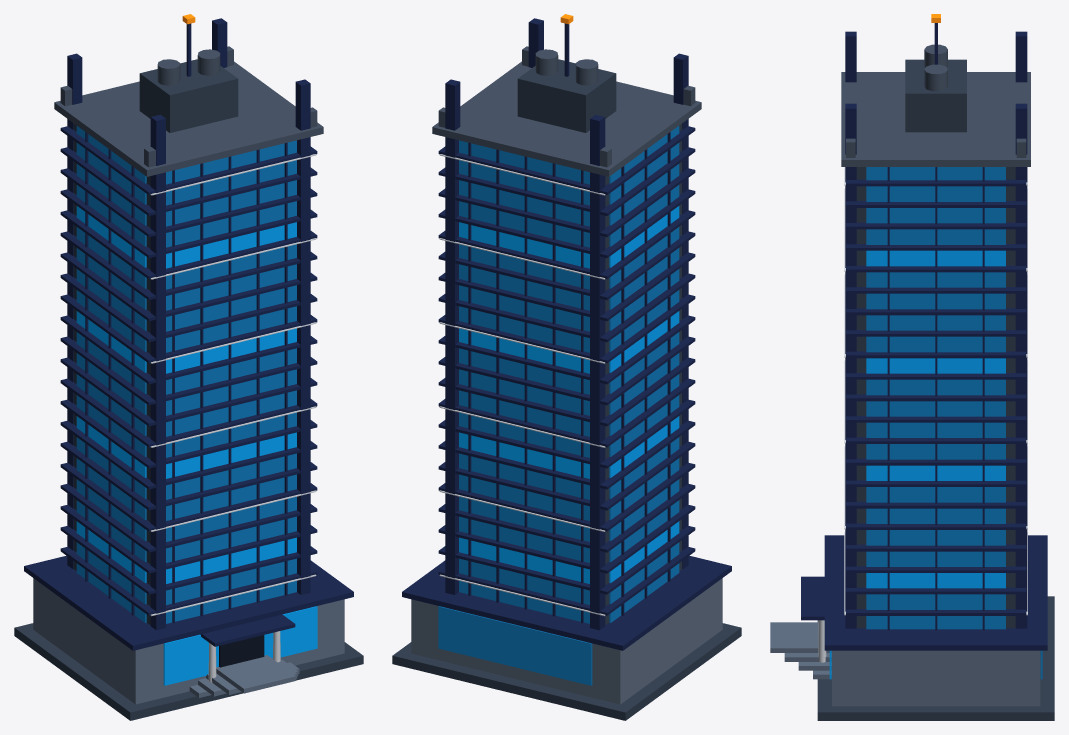
Rendered from skyscraper.glb.
The picture shows the model from 3 angles, left to right: view 1: azimuth 30°, elevation 25°; view 2: azimuth 150°, elevation 25°; view 3: azimuth 270°, elevation 25°; orthographic projection. The views are drawn at different scales.
Visible parts, largest first — view 1: Detailed_glass_office_tower; view 2: Detailed_glass_office_tower; view 3: Detailed_glass_office_tower.
Boxes of the visible parts, box(x1,y1,x2,y2) form: Detailed_glass_office_tower: box(14, 14, 363, 720); Detailed_glass_office_tower: box(392, 14, 741, 720); Detailed_glass_office_tower: box(770, 14, 1054, 720).
Bounding box in the file's own units: 58 × 151 × 60.
